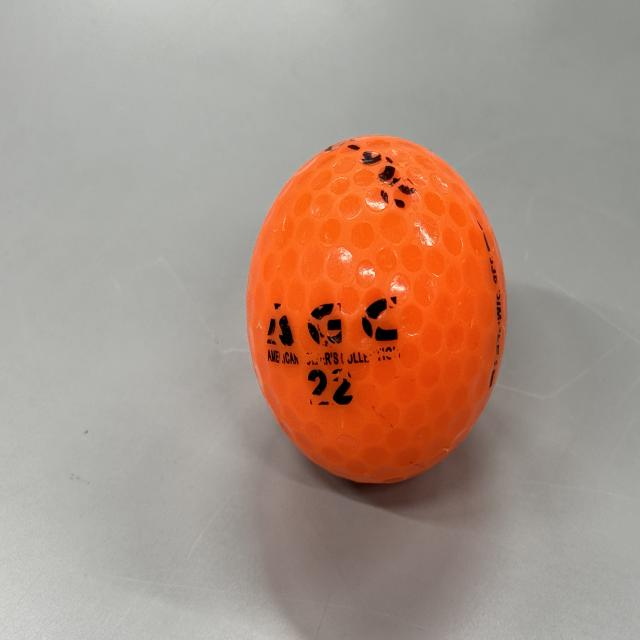ball: (246, 130, 511, 496)
